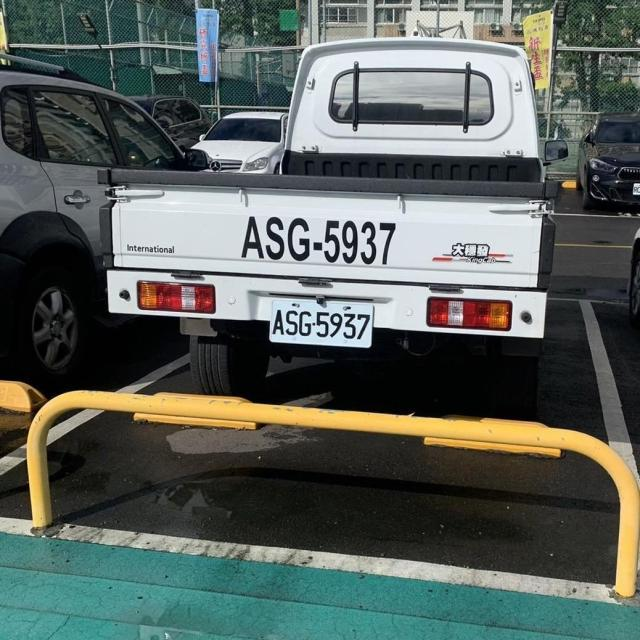W: (262, 293, 378, 351)
